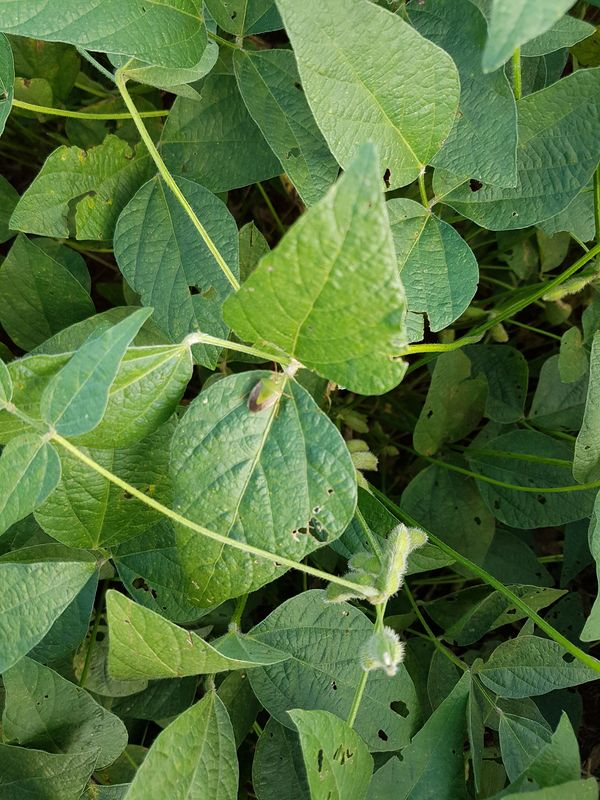Edessa_meditabunda: (239, 357, 298, 420)
